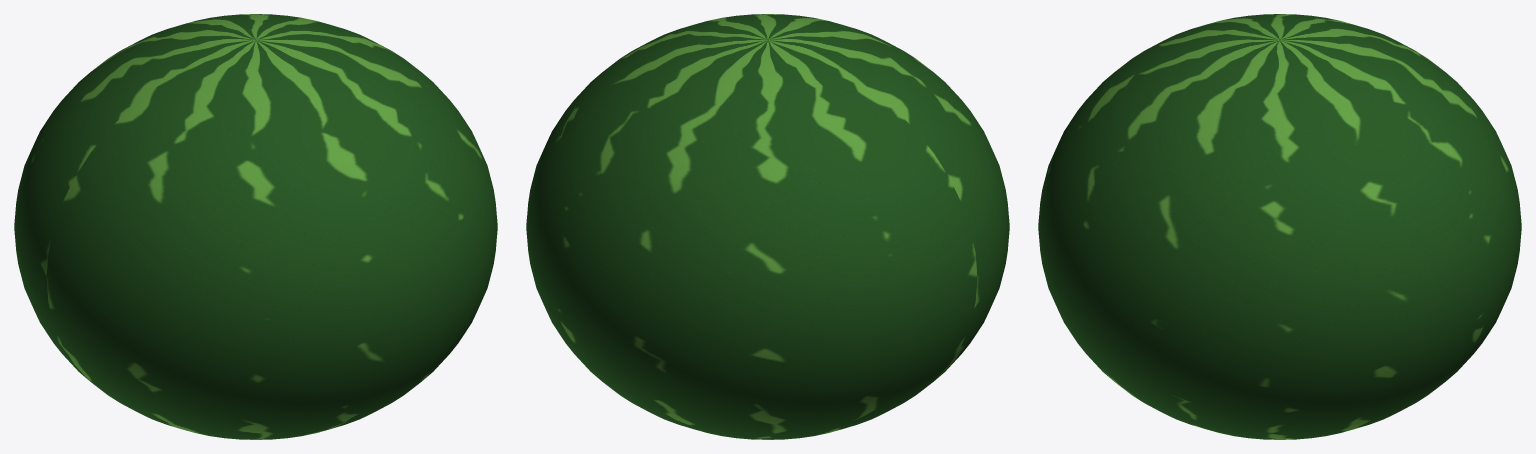
File: watermelon.fbx
The picture shows the model from 3 angles, left to right: view 1: azimuth 30°, elevation 25°; view 2: azimuth 150°, elevation 25°; view 3: azimuth 270°, elevation 25°; orthographic projection.
Visible parts, largest first — view 1: watermelon; view 2: watermelon; view 3: watermelon.
Boxes of the visible parts, x1,y1,x2,y2 form: watermelon: [14, 14, 497, 439]; watermelon: [526, 14, 1009, 439]; watermelon: [1038, 14, 1521, 439].
Bounding box in the file's own units: 0.34 × 0.29 × 0.34.
1 material, 1 textured.
